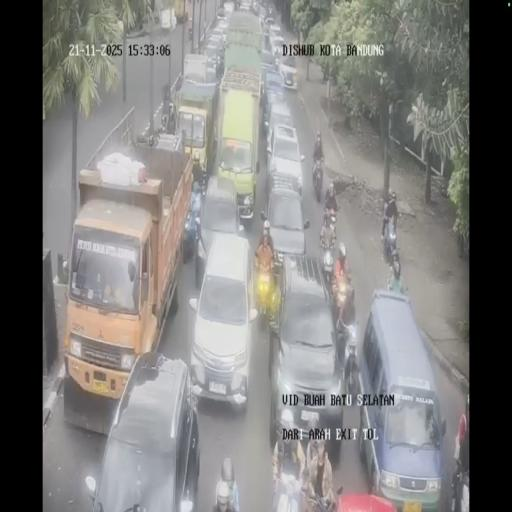3: (64, 141, 192, 408), (173, 67, 219, 179), (222, 6, 264, 80)
car: (358, 291, 444, 505), (268, 257, 345, 454), (197, 172, 245, 276), (264, 186, 306, 261), (266, 117, 303, 199), (263, 68, 286, 120), (202, 42, 224, 82), (260, 44, 275, 72), (268, 24, 282, 46), (215, 6, 229, 25), (240, 0, 252, 12), (258, 3, 266, 20), (265, 14, 275, 26)
truck: (339, 315, 361, 393), (381, 216, 398, 266), (320, 241, 336, 286), (311, 155, 325, 201), (323, 209, 337, 243)
